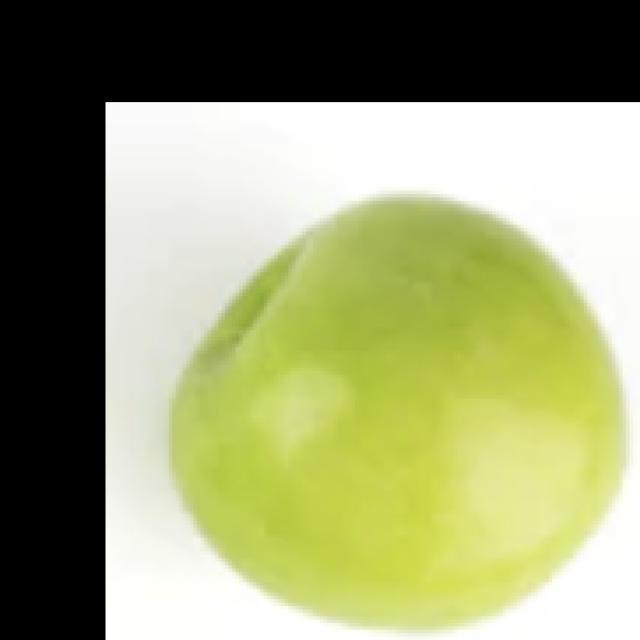Fresh Apple: (163, 186, 626, 640)
